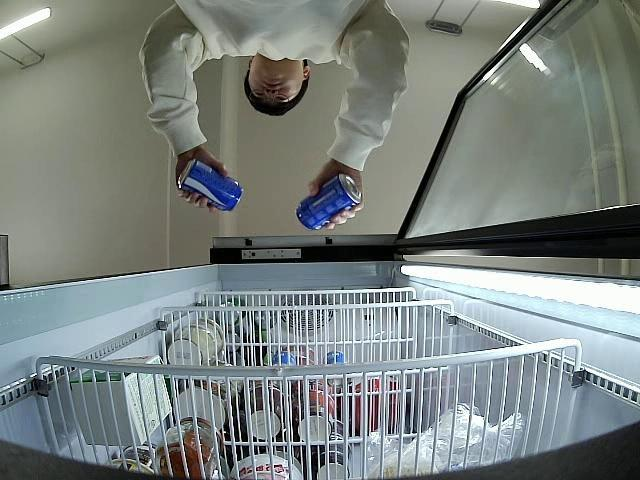13_pocariSweat: (296, 175, 361, 230), (176, 160, 242, 212)
